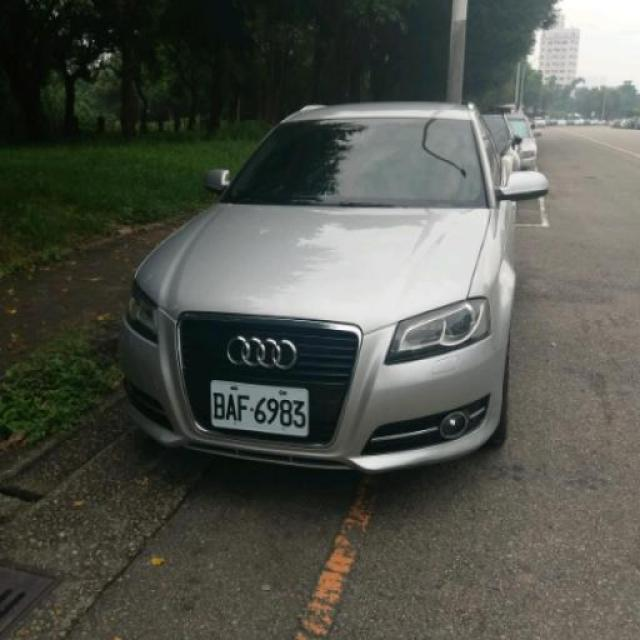Legalparking: (94, 88, 550, 482)
